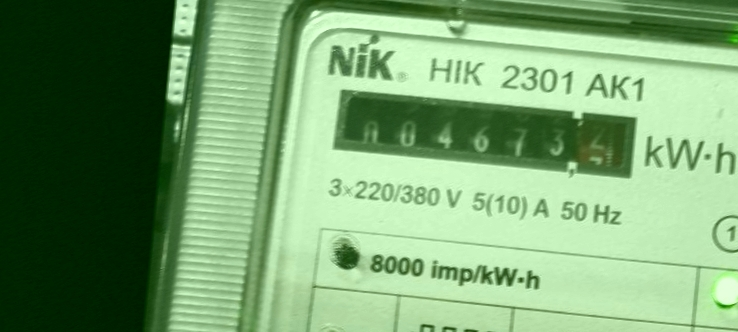0: (360, 114, 383, 146), (398, 116, 419, 148)
2: (588, 118, 611, 152)
3: (548, 123, 568, 159)
4: (436, 115, 457, 152)
6: (470, 119, 494, 154)
7: (507, 122, 533, 161)
screen: (329, 82, 644, 188)
